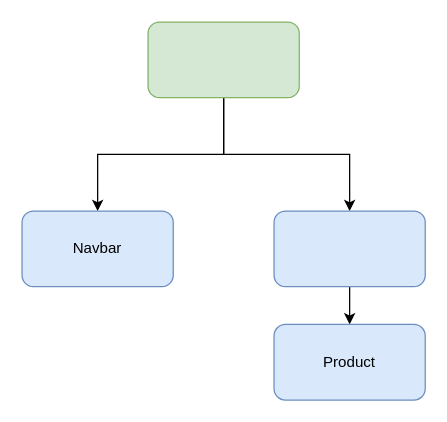
This 447x422 diagram has some shape labels left out. The shapes that lost their labels are listed below. From the top down, each one's box as (x1, y1, x2, y2) in pixels, then its label:
(147, 21, 299, 98): App.js
(273, 210, 425, 287): Products
